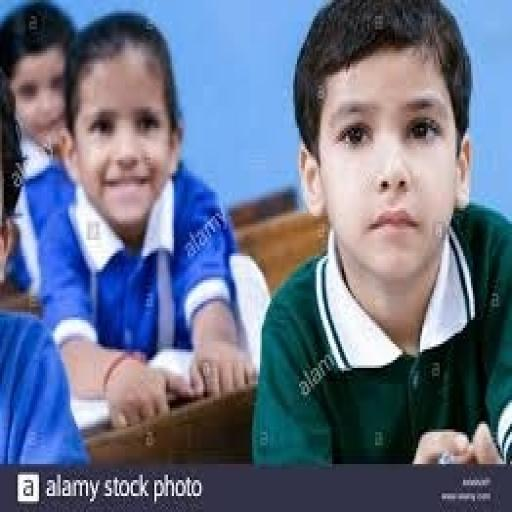sitting: (248, 0, 510, 467), (33, 8, 260, 429), (0, 48, 92, 469), (0, 0, 78, 309)
